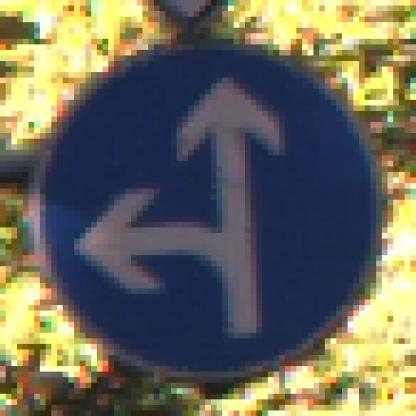Straight or Left: (35, 34, 383, 384)
